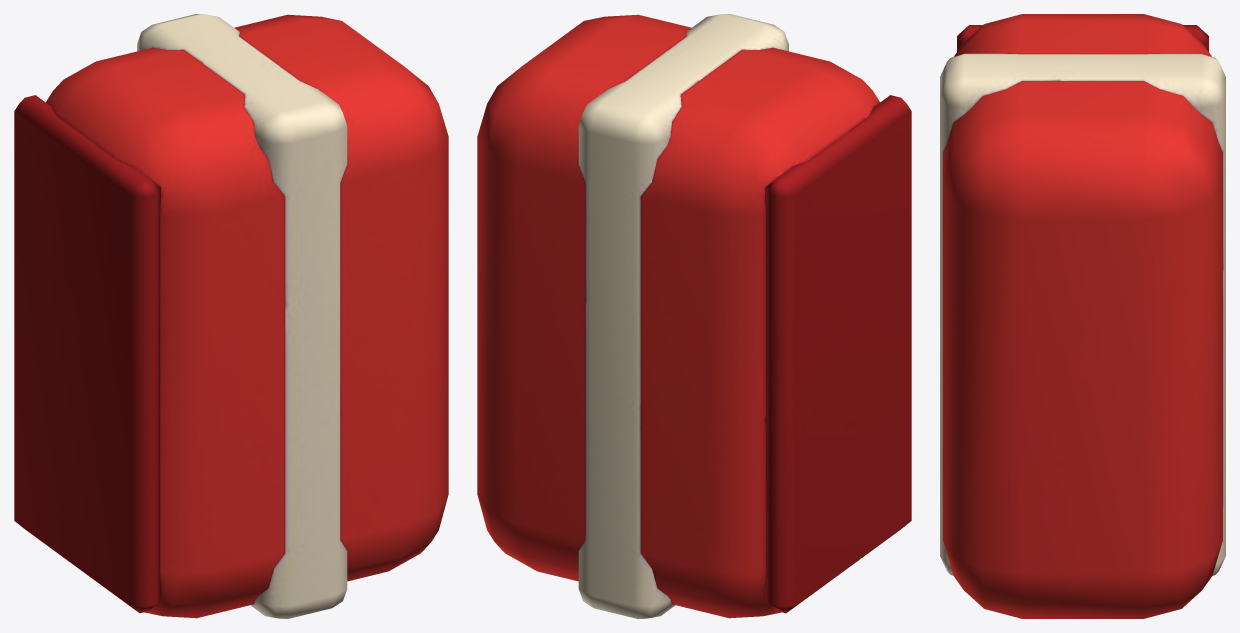
The model's file is pervane_uc.glb.
3 renders of one model, left to right at view 1: azimuth 30°, elevation 25°; view 2: azimuth 150°, elevation 25°; view 3: azimuth 270°, elevation 25°, orthographic.
Visible parts, largest first — view 1: pervane_uc; view 2: pervane_uc; view 3: pervane_uc.
Boxes of the visible parts, <box> form: pervane_uc: <box>14,14,448,618</box>; pervane_uc: <box>477,14,911,618</box>; pervane_uc: <box>940,14,1225,618</box>.
Bounding box in the file's own units: 0.63 × 0.909 × 0.4682.
Materials: 1 (1 with a texture image).
